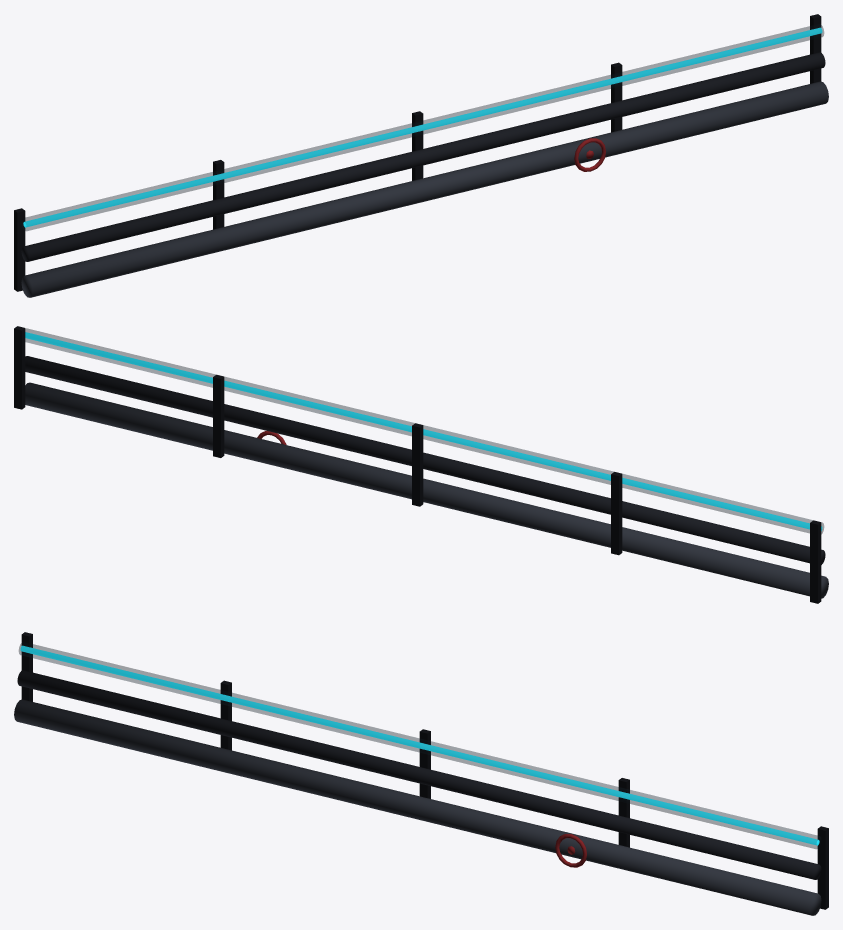
The model's file is Arch_WallPipes_4m.glb.
3 renders of one model, top to bottom at view 1: azimuth 30°, elevation 25°; view 2: azimuth 150°, elevation 25°; view 3: azimuth 330°, elevation 25°, orthographic.
Visible parts, largest first — view 1: Arch_WallPipes_4m; view 2: Arch_WallPipes_4m; view 3: Arch_WallPipes_4m.
Boxes of the visible parts, x1,y1,x2,y2 form: Arch_WallPipes_4m: [14, 14, 828, 297]; Arch_WallPipes_4m: [14, 326, 828, 603]; Arch_WallPipes_4m: [14, 632, 828, 915].
Size of the model in its own units: 4.04 by 0.42 by 0.1387.
